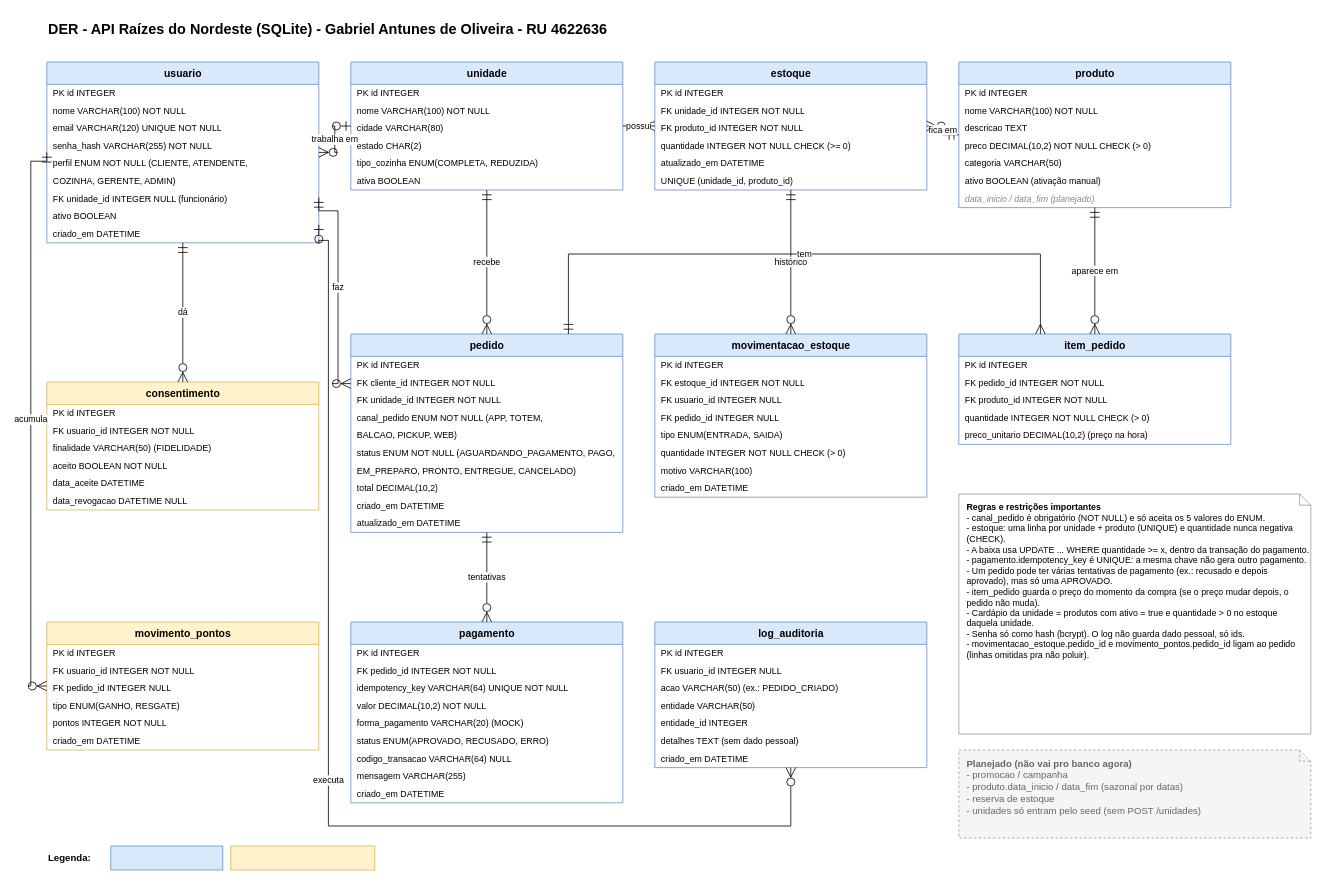
This 1325x884 diagram has some shape labels left out. Each missing label, with the centre of its shape:
"Complementar (fidelidade)" belongs at (x=302, y=857).
"Núcleo (Fluxo A)" belongs at (x=166, y=857).
